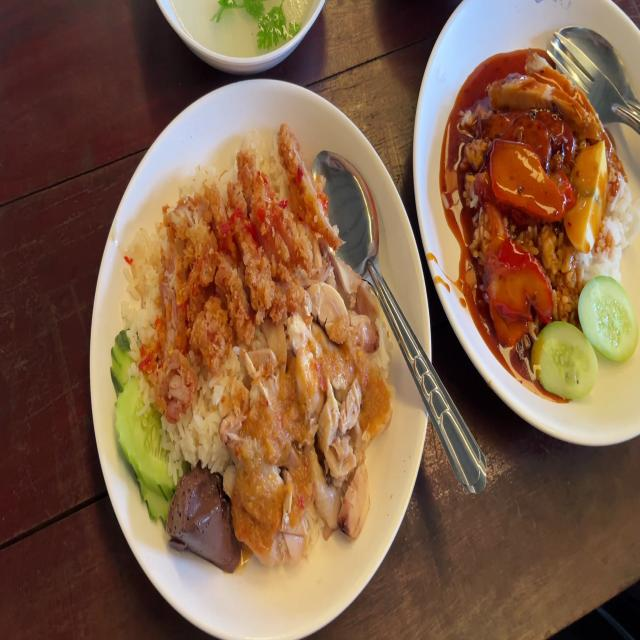boiled_chicken: (226, 272, 392, 552)
boiled_chicken_blood_jelly: (168, 466, 240, 575)
boiled_egg: (562, 137, 610, 246)
chainese_sausage: (482, 103, 571, 163)
chicken_rice: (109, 121, 395, 578)
crispy_pork: (485, 50, 603, 131)
cucumber: (110, 326, 180, 519), (532, 316, 600, 402), (579, 273, 638, 358)
fried_chicken: (144, 125, 344, 421)
red_pork: (477, 230, 550, 338), (490, 138, 573, 219)
red_pork_and_crispy_pork: (467, 53, 638, 401)
